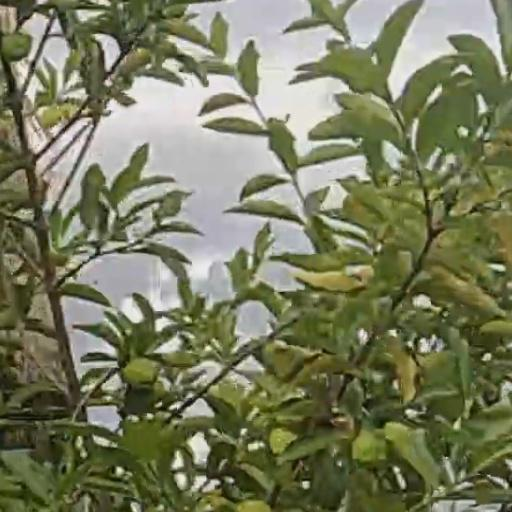acerola_verde: (122, 359, 155, 384), (4, 34, 31, 59)
